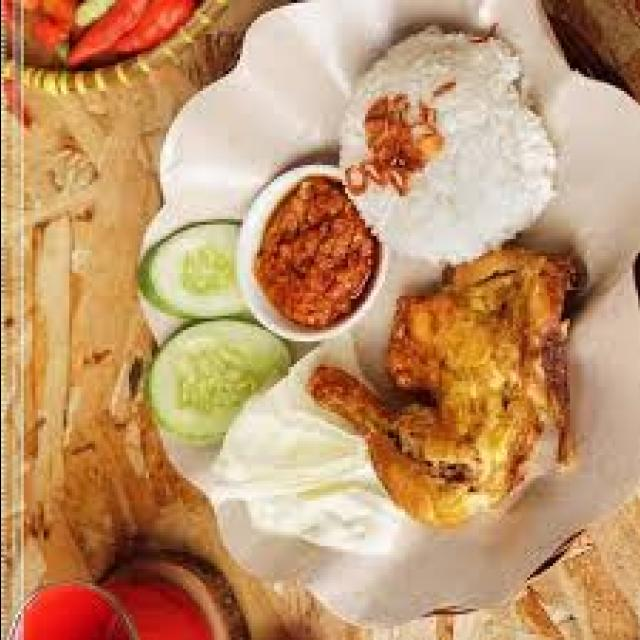ayam goreng: (310, 247, 577, 526)
nasi: (338, 28, 558, 265)
